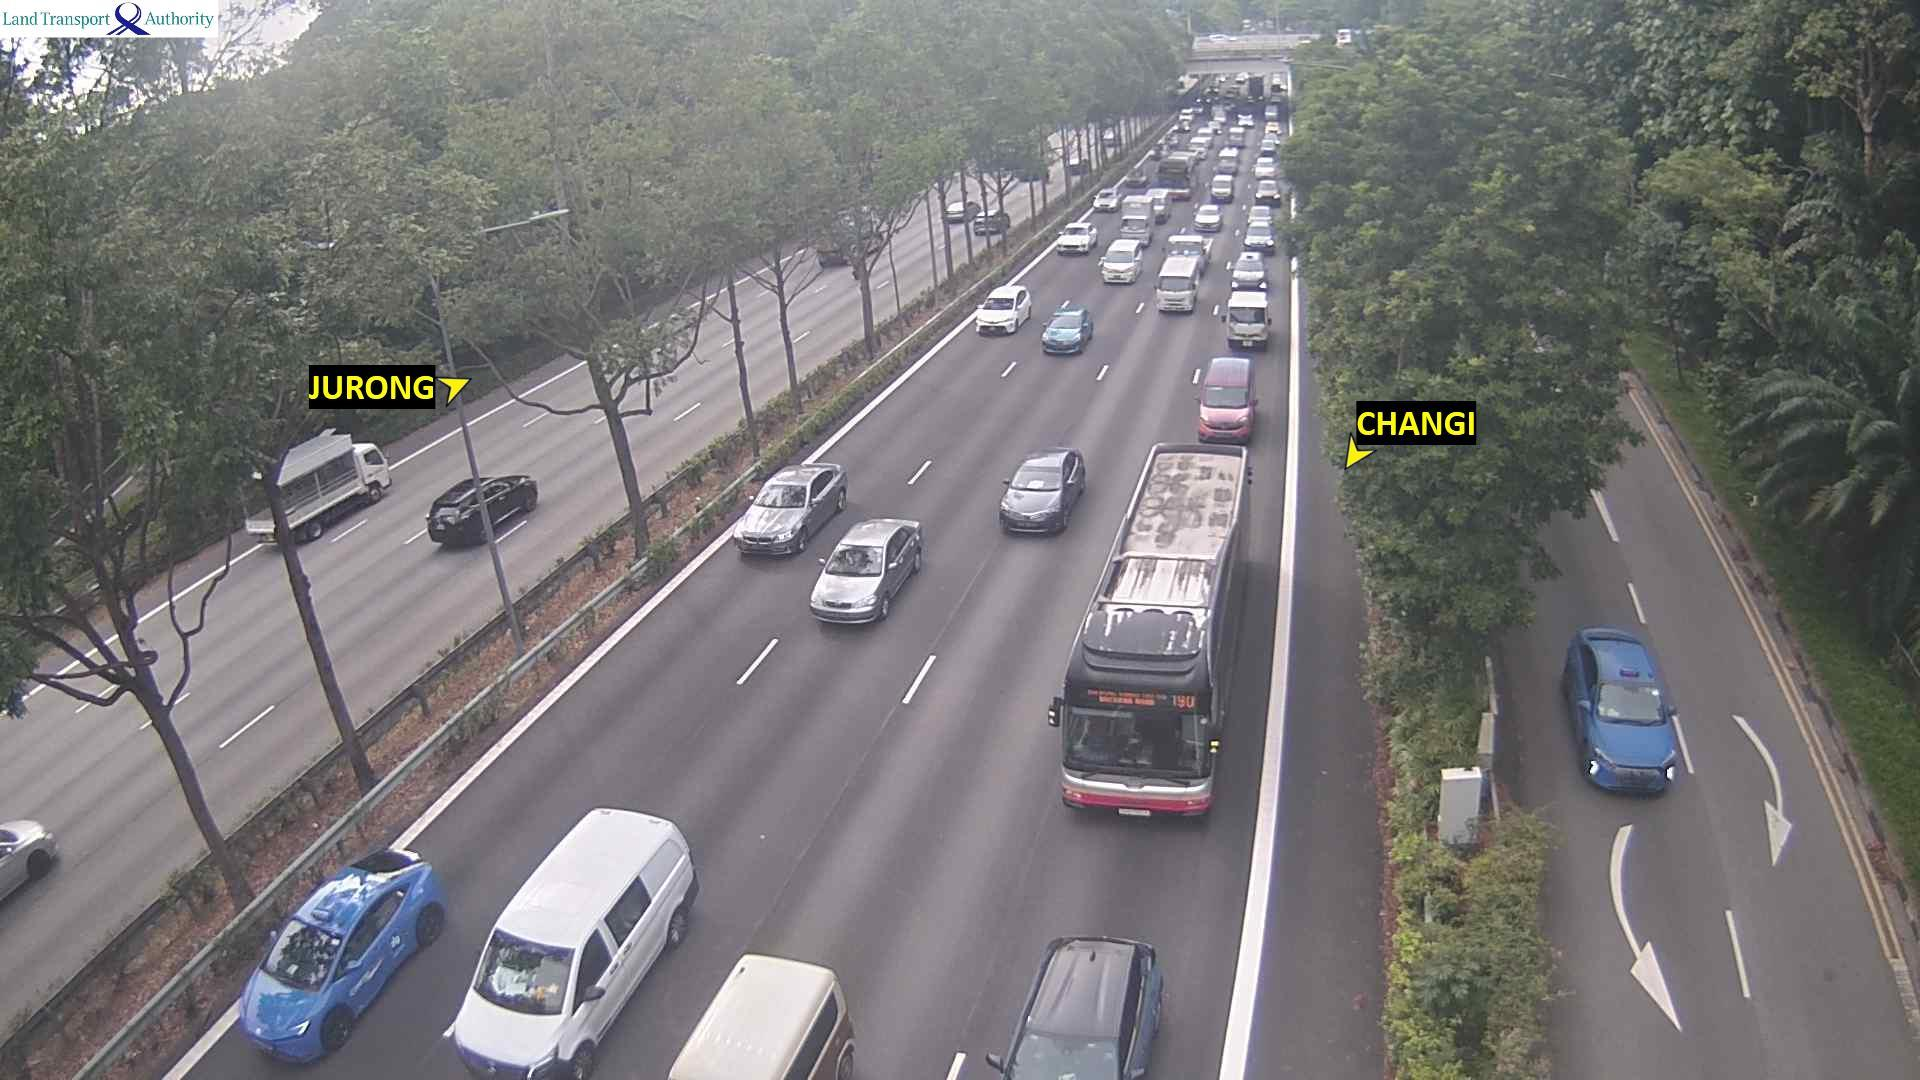bus: (1056, 445, 1260, 825), (1152, 150, 1202, 200)
cars: (443, 805, 698, 1078), (237, 844, 446, 1063), (985, 934, 1163, 1078), (666, 951, 856, 1078), (1560, 625, 1679, 795), (248, 421, 397, 539), (808, 516, 923, 625), (731, 460, 847, 557), (425, 473, 537, 546), (997, 445, 1086, 535), (1190, 355, 1258, 442), (0, 817, 59, 896), (816, 207, 886, 268), (974, 283, 1032, 335), (1223, 289, 1272, 348), (1040, 300, 1092, 354), (1154, 254, 1198, 313), (1097, 237, 1143, 284), (1166, 232, 1211, 272), (1227, 251, 1268, 289), (1054, 220, 1096, 254), (1242, 218, 1275, 253), (1118, 213, 1152, 246), (970, 209, 1010, 235), (1191, 201, 1223, 232), (1145, 187, 1172, 222), (943, 198, 979, 223), (1253, 177, 1281, 205), (1208, 172, 1234, 202), (1091, 186, 1120, 212), (1123, 164, 1151, 190), (1214, 145, 1239, 173), (1193, 31, 1237, 46), (1251, 153, 1277, 178), (1245, 204, 1273, 226), (1064, 157, 1092, 177), (1146, 142, 1173, 161), (1227, 126, 1248, 149), (1257, 134, 1281, 154), (1196, 126, 1219, 146), (1187, 141, 1209, 161), (1264, 121, 1287, 138), (1101, 131, 1121, 149), (1236, 112, 1257, 129), (1264, 104, 1281, 124), (1206, 119, 1225, 136), (1173, 121, 1195, 133), (1210, 106, 1226, 120), (1214, 110, 1231, 123), (1178, 111, 1196, 123), (1190, 103, 1205, 115), (1196, 93, 1212, 104), (1270, 95, 1283, 107)
trucks: (1246, 74, 1266, 105)
